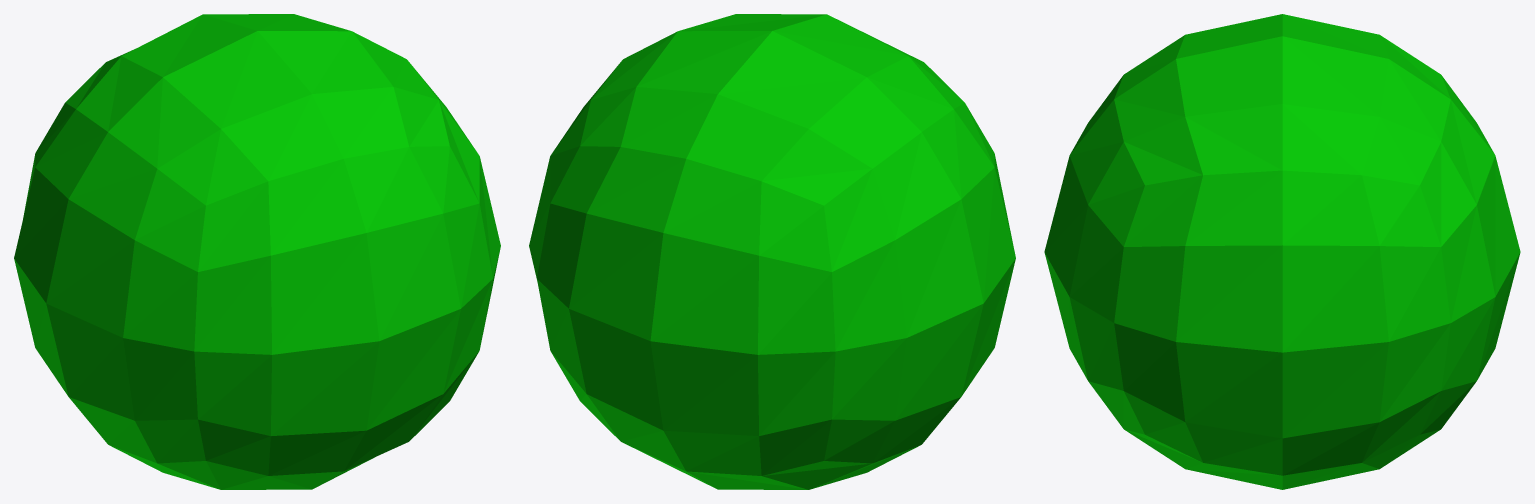
File: lysosome.fbx
The picture shows the model from 3 angles, left to right: view 1: azimuth 30°, elevation 25°; view 2: azimuth 150°, elevation 25°; view 3: azimuth 270°, elevation 25°; orthographic projection. The views are drawn at different scales.
Visible parts, largest first — view 1: Box001; view 2: Box001; view 3: Box001.
Boxes of the visible parts, box(x1,y1,x2,y2) form: Box001: box(14, 14, 500, 489); Box001: box(529, 14, 1015, 489); Box001: box(1044, 14, 1520, 489).
Size of the model in its own units: 8 by 8 by 8.
